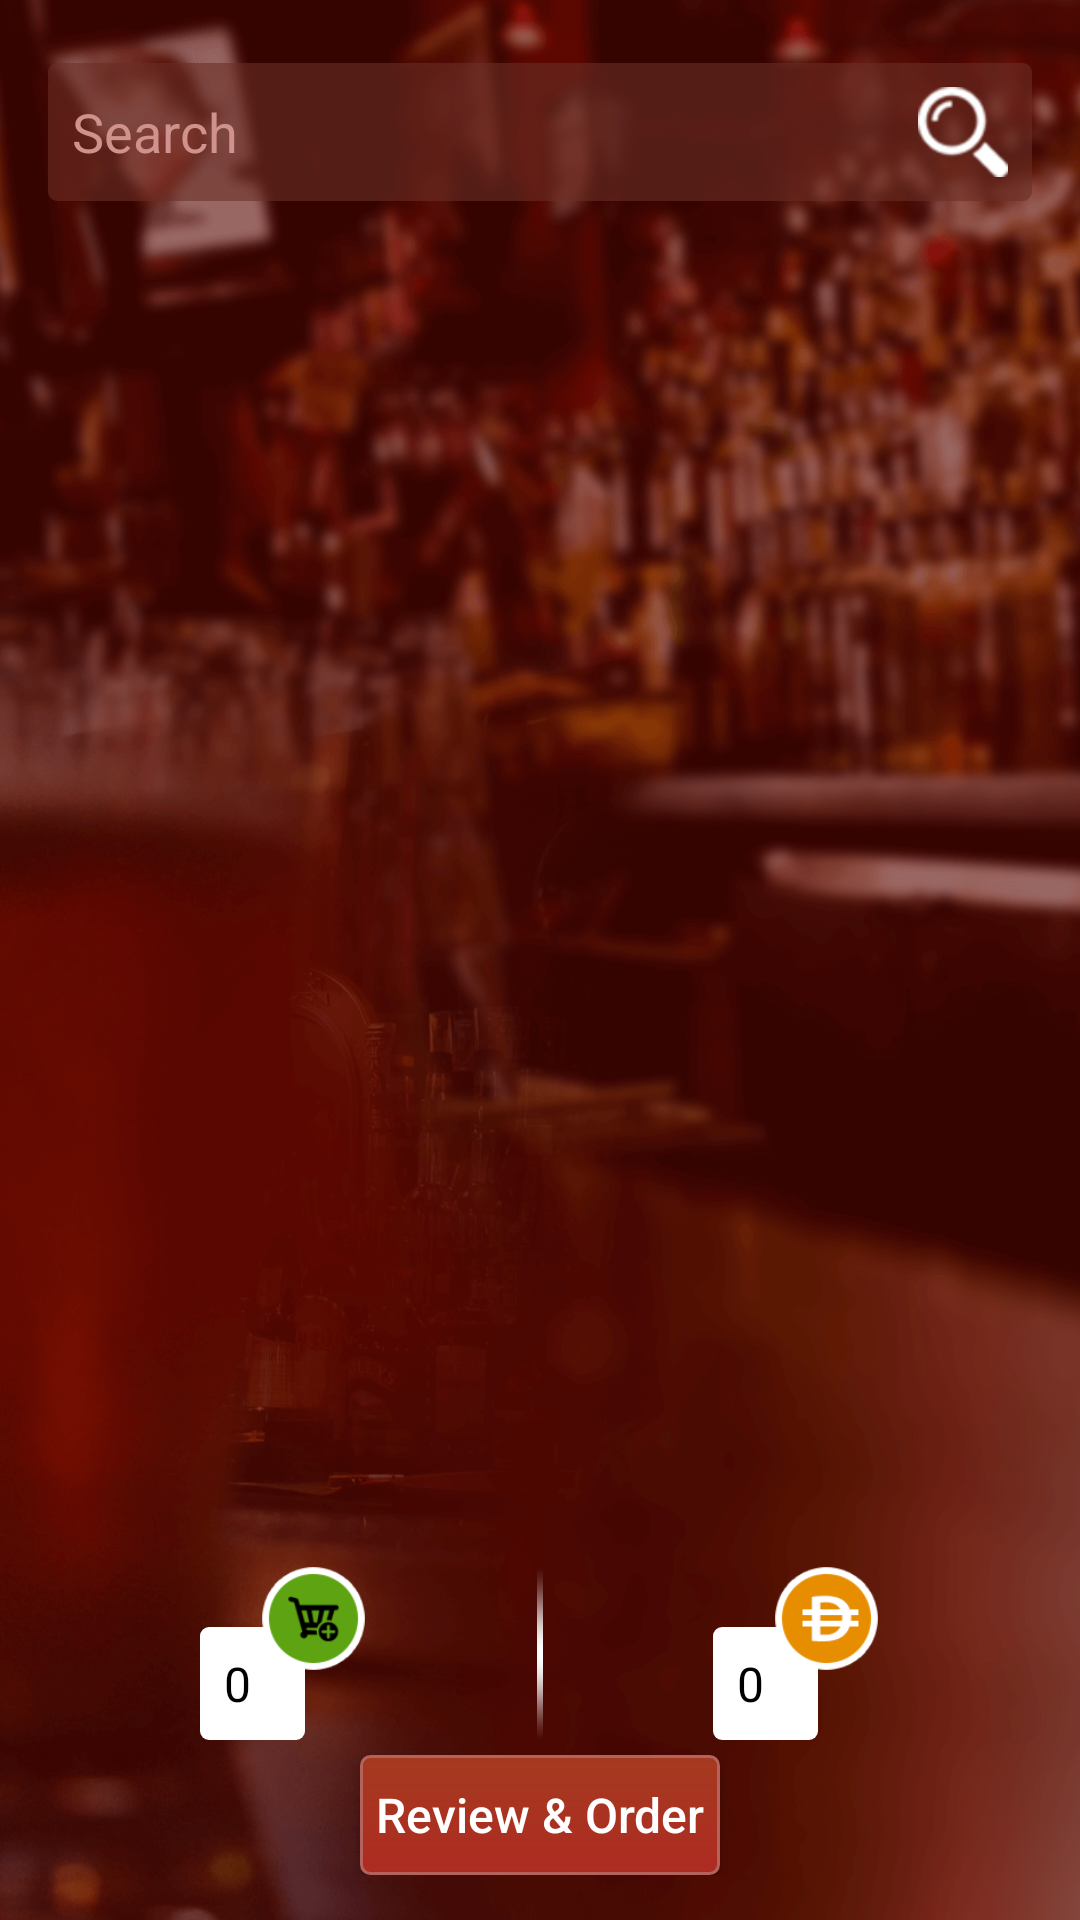

Screen size 1080 × 1920. Icon name, then its center in pixels as [x,y]:
cart: [313,1618]
